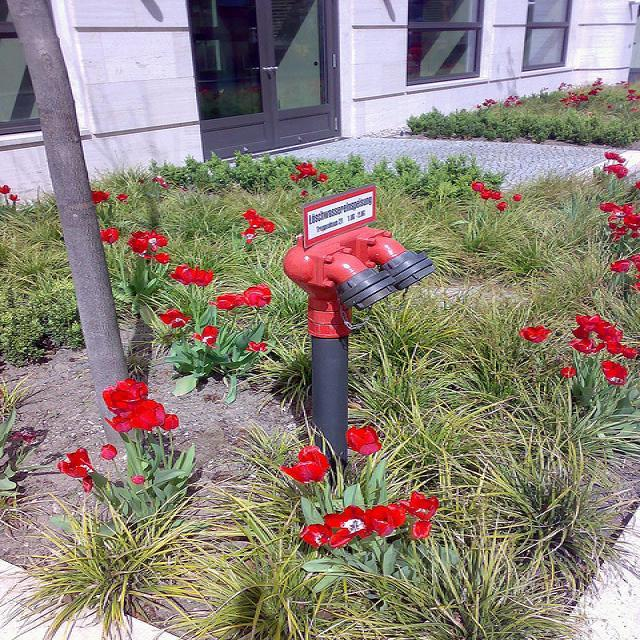fire_hydrant: (284, 182, 439, 466)
